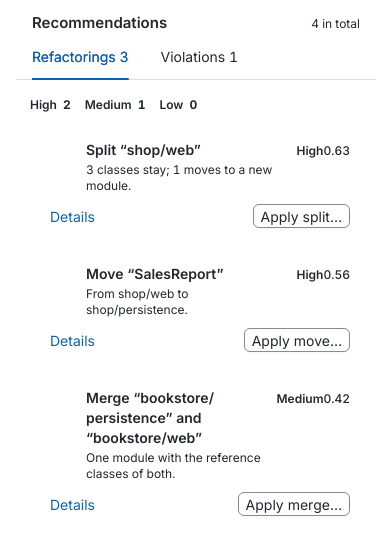
Test case: RecommendationsPanel › lists the refactorings by rate, the split first, and the violation in its own tab
Click the tab "Violations 1": (199, 57) [160,46,238,68]
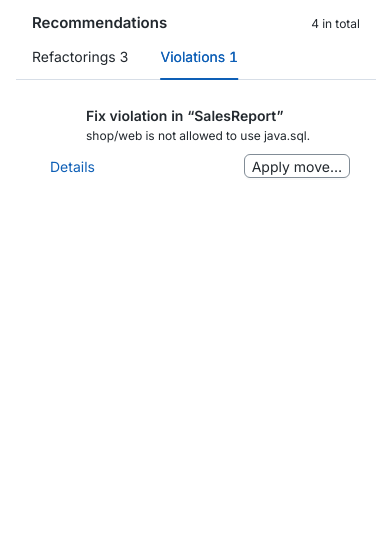
Expected: the element "Fix violation in “SalesReport”" is shown, [30,94,362,190]
